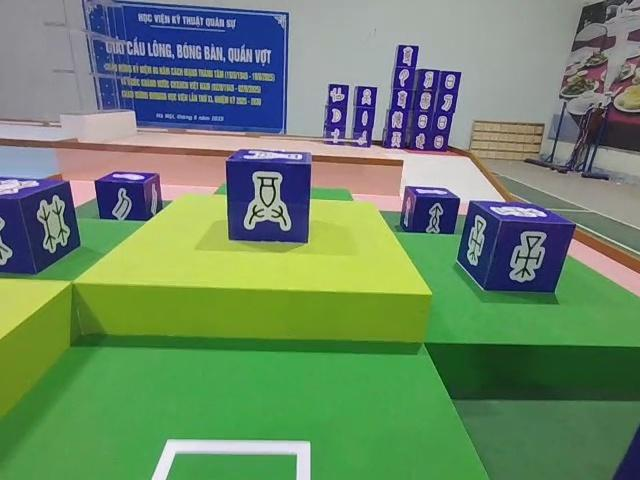R2 Real Blue: (456, 203, 573, 297), (225, 151, 314, 247), (0, 177, 79, 278), (97, 173, 165, 225), (401, 187, 461, 236)
